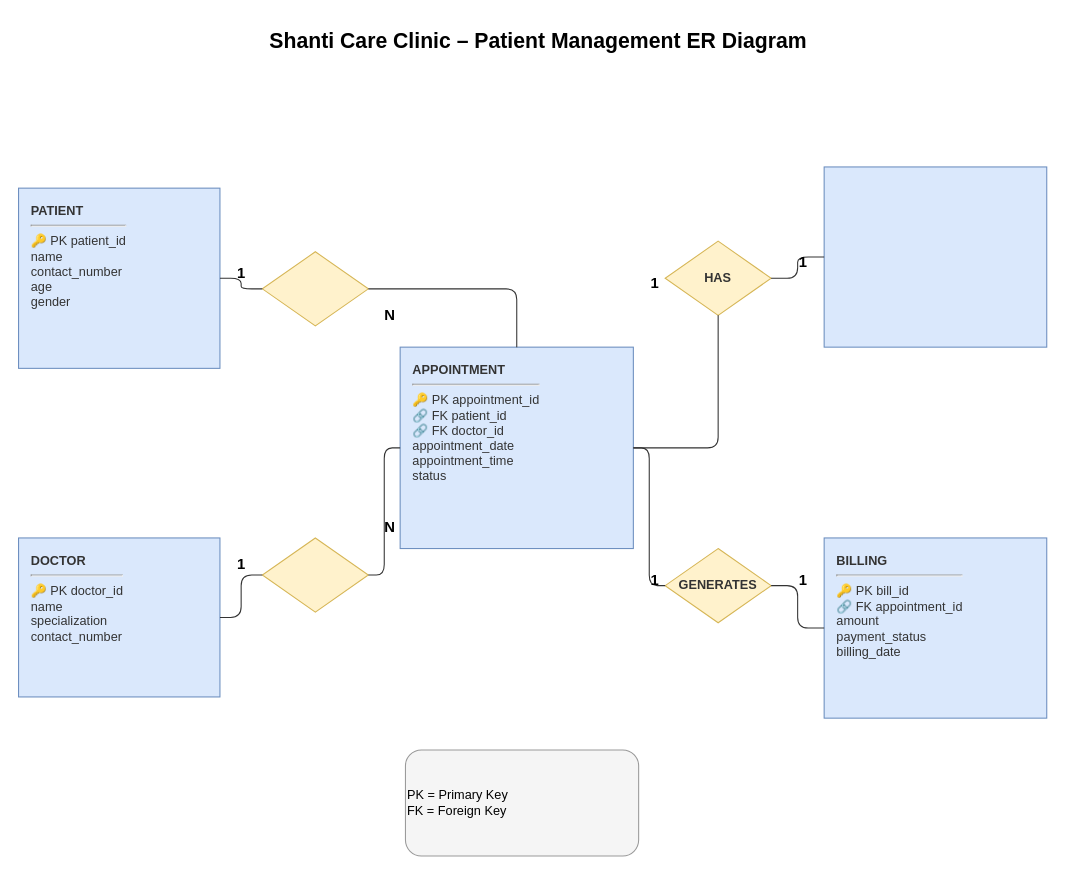
Some shapes in this 1065 by 874 pixel diagram are drawn without their labels. The box of each missing label's shape, as (x1, y1, x2, y2) in pixels:
BOOKS: (261, 251, 368, 326)
HANDLES: (261, 537, 368, 612)
PRESCRIPTION 🔑 PK prescription_id 🔗 FK appointment_id diagnosis medicine dosage: (823, 166, 1047, 347)
